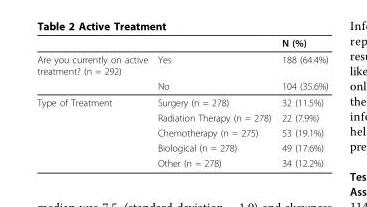table: (36, 36, 327, 168)
table column: (152, 36, 275, 168), (36, 36, 152, 168), (275, 36, 327, 168)
table column header: (36, 36, 327, 50)
table row: (36, 50, 327, 78), (36, 93, 327, 109), (36, 139, 327, 155), (36, 78, 327, 93), (36, 109, 327, 124), (36, 124, 327, 139), (36, 36, 327, 50), (36, 155, 327, 168)
table spanning cell: (36, 93, 152, 168), (36, 50, 152, 93)
